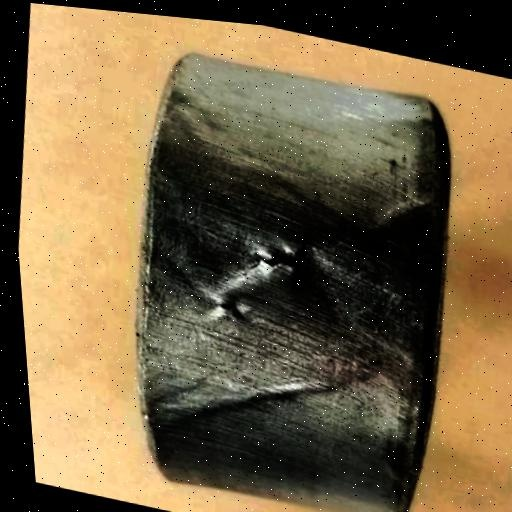crack: (245, 229, 318, 299), (201, 285, 246, 326)
